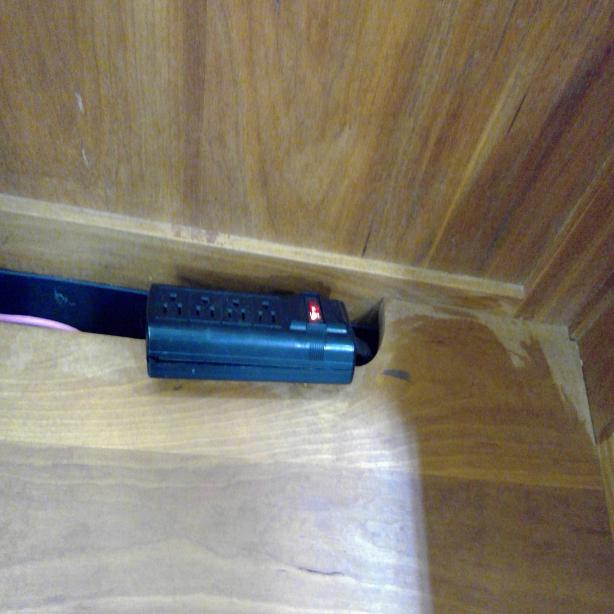typeb: (221, 292, 252, 330), (156, 288, 187, 324), (191, 291, 220, 325), (254, 294, 280, 328)
